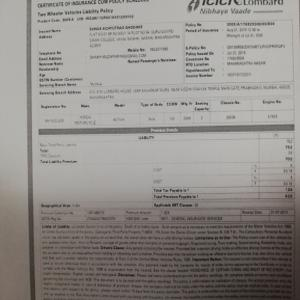table: (39, 123, 296, 208), (39, 96, 294, 123)
